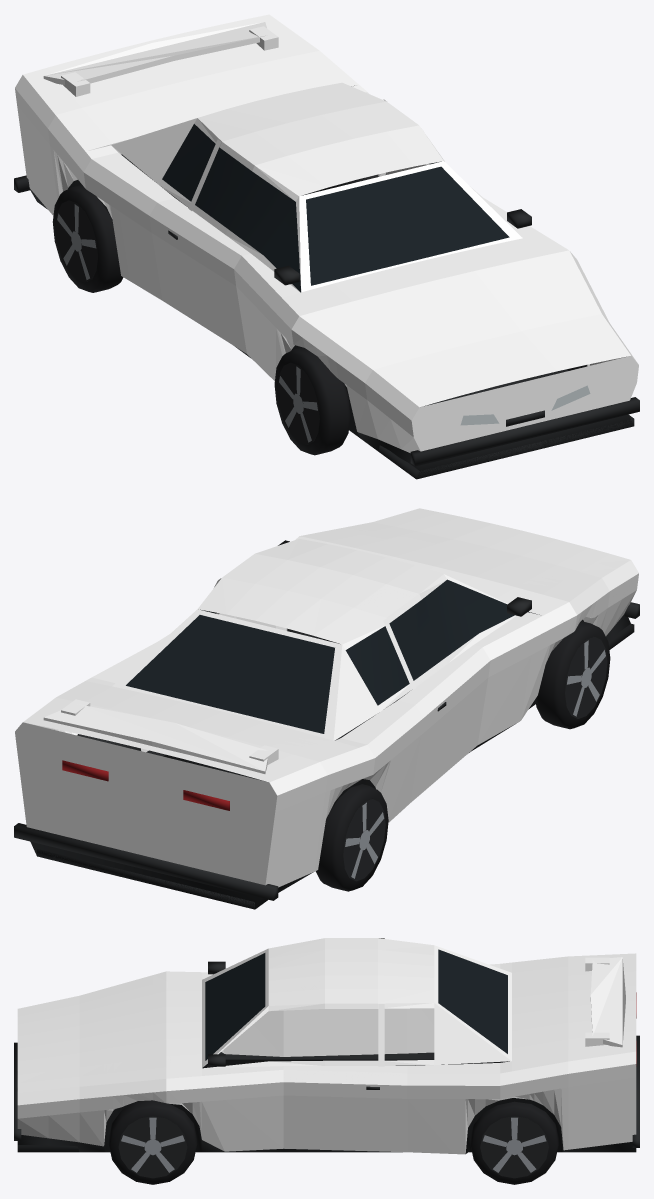
Rendered from wexmoor_escarpa.glb.
The picture shows the model from 3 angles, top to bottom: view 1: azimuth 30°, elevation 25°; view 2: azimuth 150°, elevation 25°; view 3: azimuth 270°, elevation 25°; orthographic projection. The views are drawn at different scales.
Visible parts, largest first — view 1: Body_Paint, Body_Details, Mount_FrontLeft_Wheel_Details, Mount_RearLeft_Wheel_Details; view 2: Body_Paint, Body_Details, Mount_FrontLeft_Wheel_Details, Mount_RearLeft_Wheel_Details; view 3: Body_Paint, Body_Details, Mount_FrontRight_Wheel_Details, Mount_RearRight_Wheel_Details.
Boxes of the visible parts, x1,y1,x2,y2 form: Body_Paint: (15, 14, 638, 452); Body_Details: (14, 124, 639, 479); Mount_FrontLeft_Wheel_Details: (274, 347, 350, 455); Mount_RearLeft_Wheel_Details: (52, 185, 123, 292); Body_Paint: (15, 508, 638, 887); Body_Details: (14, 540, 639, 909); Mount_FrontLeft_Wheel_Details: (535, 621, 610, 729); Mount_RearLeft_Wheel_Details: (315, 784, 388, 891); Body_Paint: (17, 938, 636, 1154); Body_Details: (14, 949, 639, 1153); Mount_FrontRight_Wheel_Details: (108, 1100, 197, 1184); Mount_RearRight_Wheel_Details: (470, 1101, 558, 1184).
Size of the model in its own units: 2.02 by 1.31 by 4.61.
Materials: 2 (1 with a texture image).
